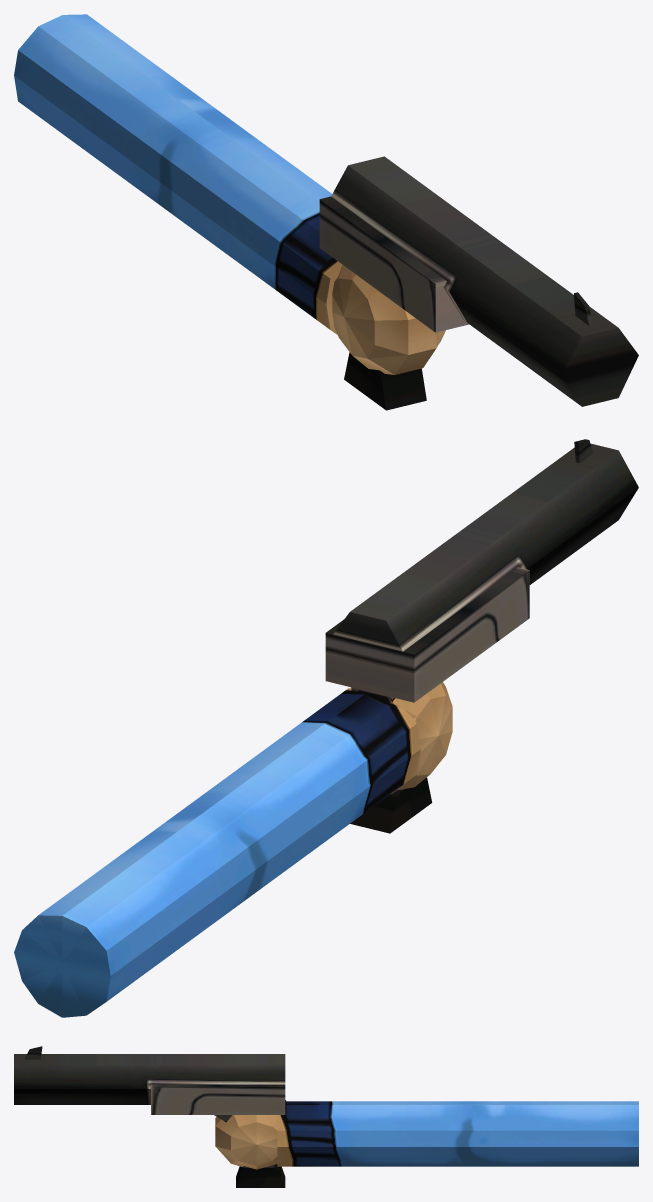
Rendered from Handgun.glb.
3 views of the same model, one above another, from view 1: azimuth 30°, elevation 25°; view 2: azimuth 150°, elevation 25°; view 3: azimuth 270°, elevation 25° (orthographic). The views are drawn at different scales.
Visible parts, largest first — view 1: Handgun; view 2: Handgun; view 3: Handgun.
Part boxes in pixels (x1,y1,x2,y2): Handgun: (14,14,638,410); Handgun: (14,439,638,1017); Handgun: (14,1046,638,1187).
Bounding box in the file's own units: 72.41 × 167 × 696.
Materials: 1 (1 with a texture image).
